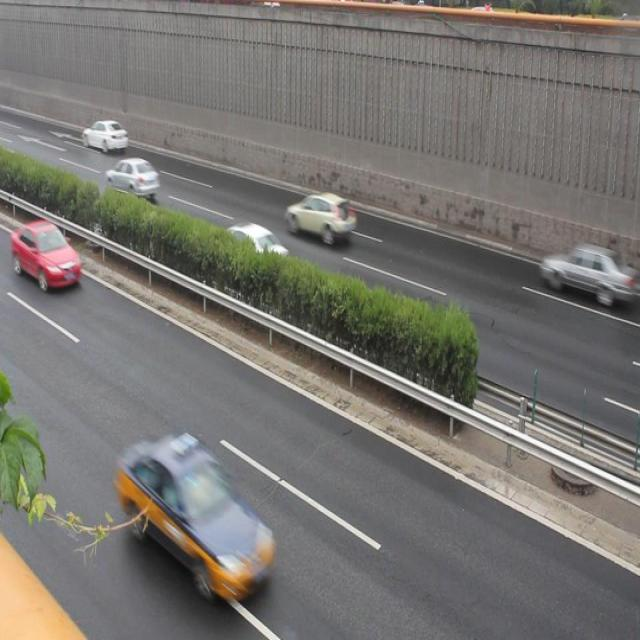car: (120, 436, 271, 592), (539, 244, 626, 307), (12, 220, 81, 288), (211, 222, 288, 280), (285, 191, 356, 245), (107, 156, 160, 201), (82, 118, 128, 155)
